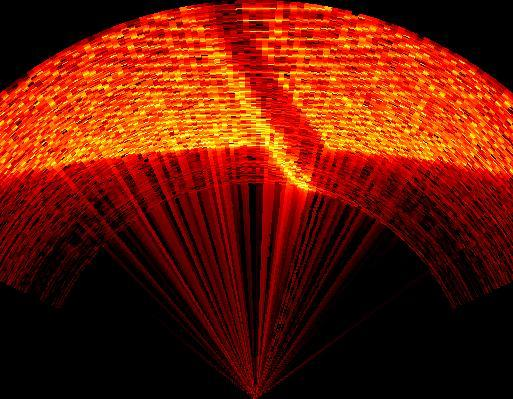pipe: (178, 6, 337, 195)
